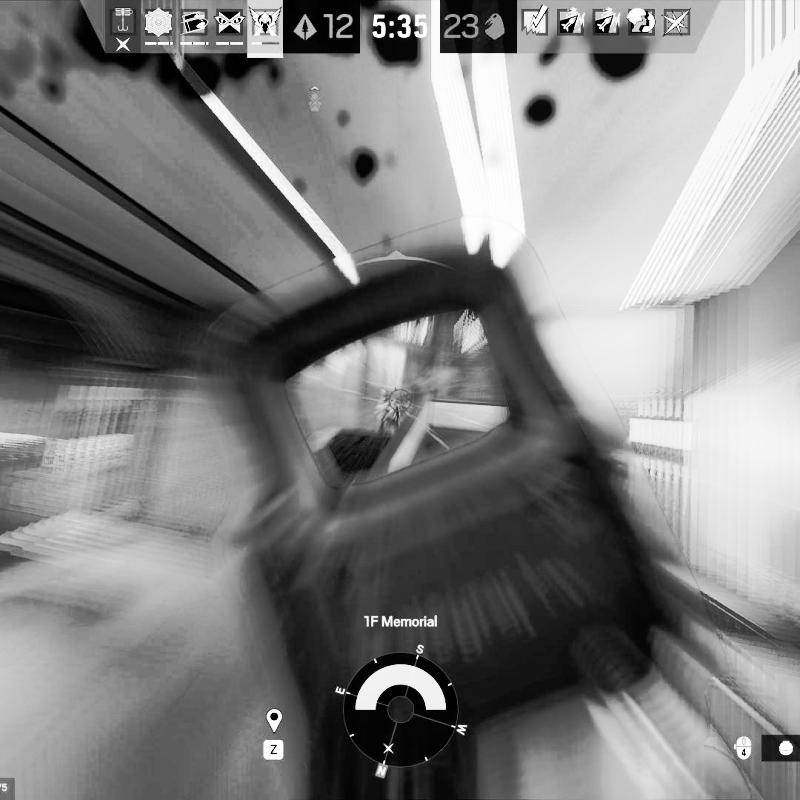Character: (376, 384, 405, 442)
Head: (379, 386, 391, 398)
